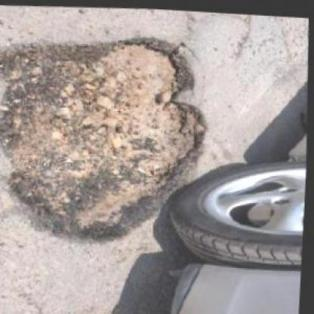Hueco: (0, 25, 217, 250)
